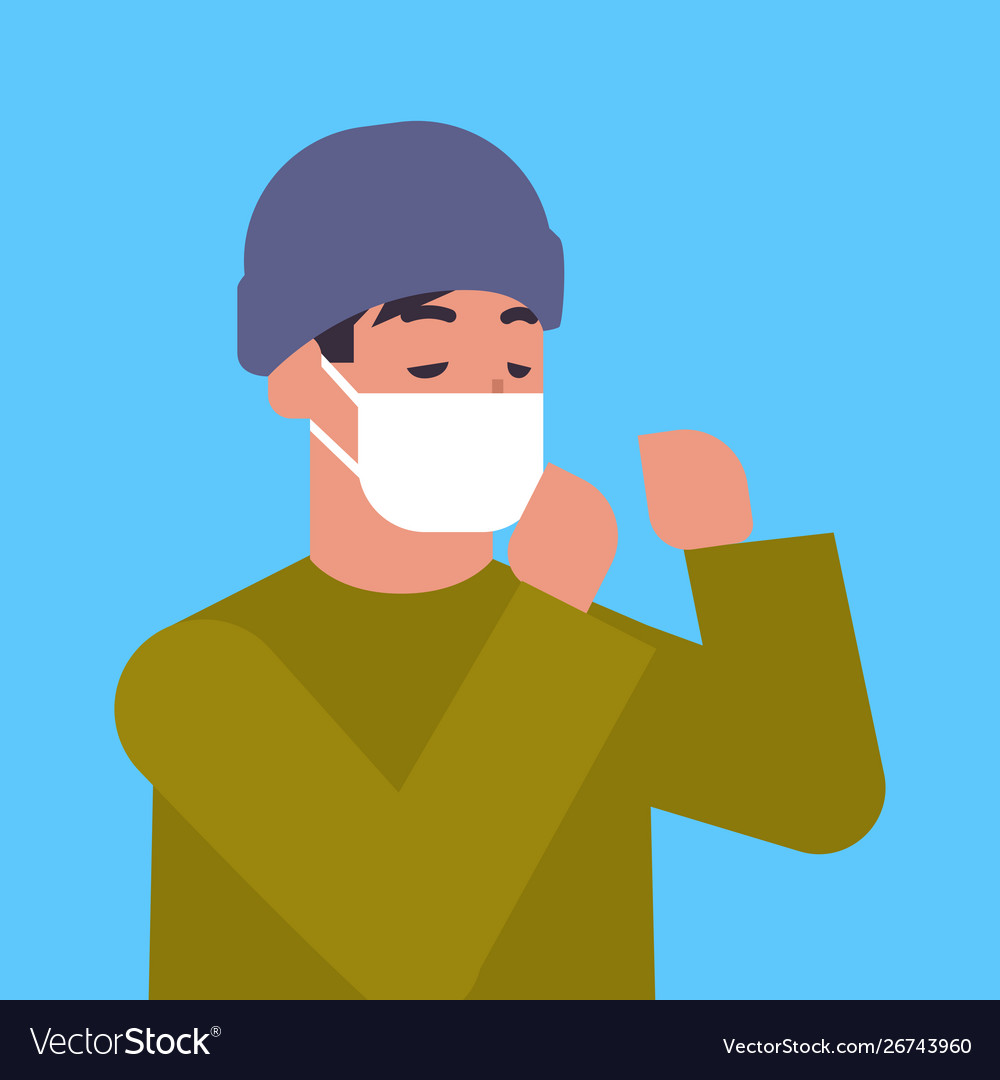mask: (313, 365, 575, 570)
